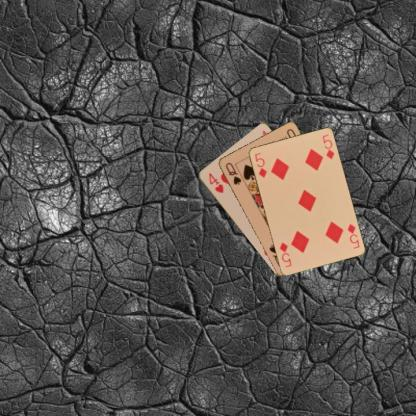4h: (206, 170, 224, 194)
5d: (344, 220, 361, 250), (252, 150, 268, 178)
Qs: (223, 160, 242, 186)
